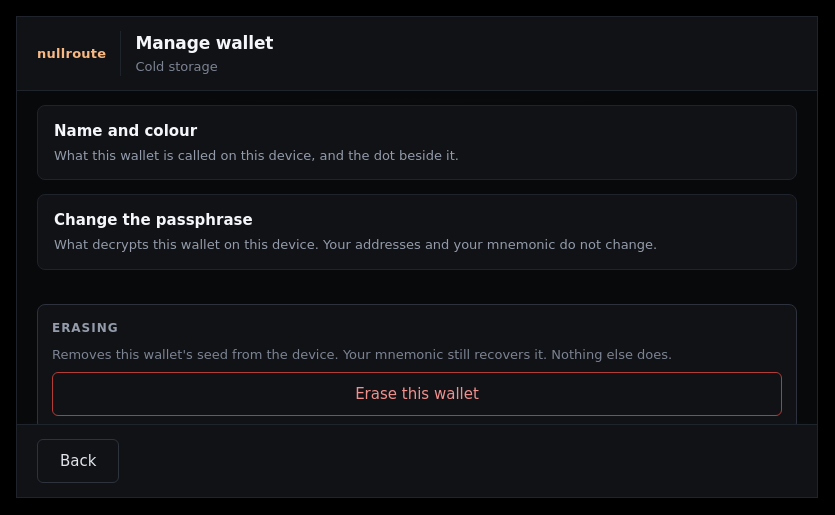
Test: ManageWalletScreen passphrase change › says-first-that-this-does-not-change-any-address
What coordinates should you click on to do the following:
click the button with test id "manage-choose-passphrase"
I would click on:
 (153, 220)
Its box is [37,194,797,270].
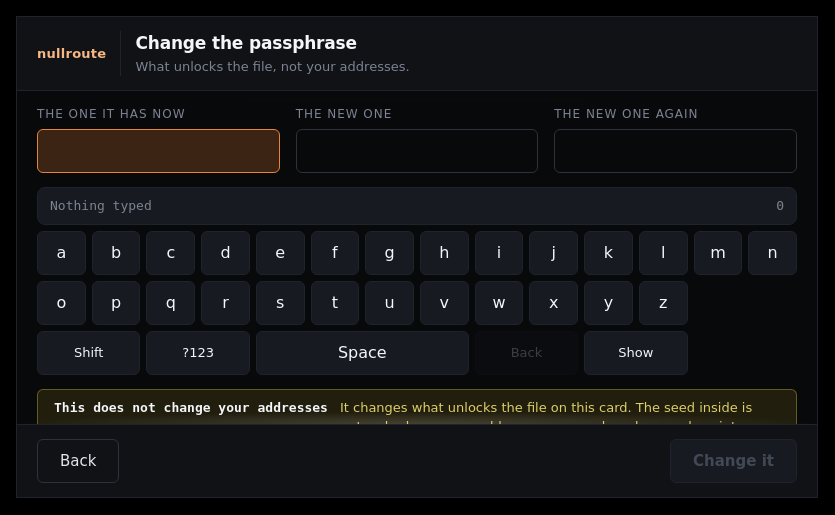
Expected: the element with test id "manage-passphrase-scope" shows "does not change your addresses", [54,400,328,415]
